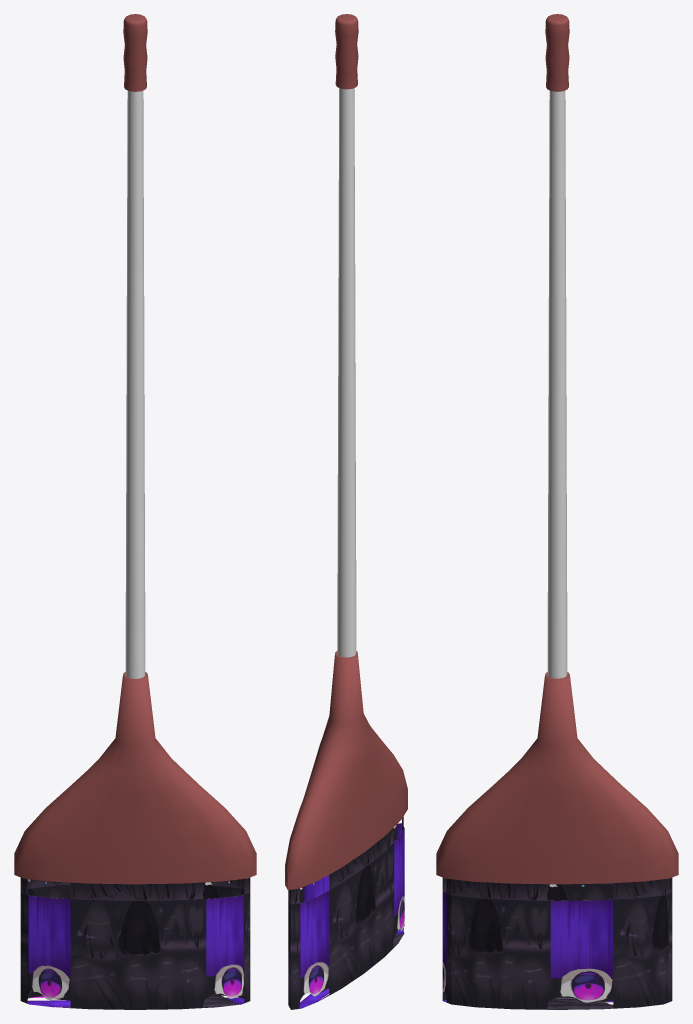
Rendered from Broom_SM.FBX.
The picture shows the model from 3 angles, left to right: view 1: azimuth 90°, elevation 25°; view 2: azimuth 150°, elevation 25°; view 3: azimuth 270°, elevation 25°; orthographic projection. The views are drawn at different scales.
Visible parts, largest first — view 1: Broom_SM; view 2: Broom_SM; view 3: Broom_SM.
Boxes of the visible parts, box(x1,y1,x2,y2) form: Broom_SM: box(14, 14, 256, 1009); Broom_SM: box(285, 14, 407, 1009); Broom_SM: box(436, 14, 678, 1009).
Size of the model in its own units: 7.19 by 39.03 by 175.
